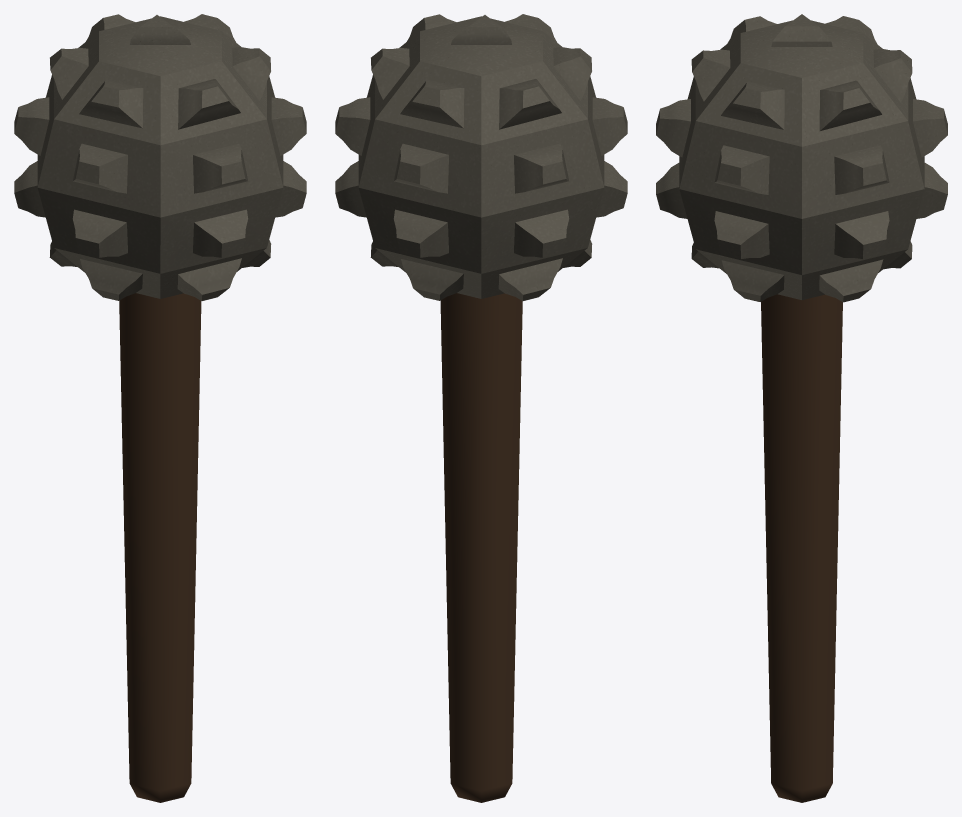
The model's file is Mace_Weapon_001.fbx.
3 views of the same model, side by side, from view 1: azimuth 30°, elevation 25°; view 2: azimuth 150°, elevation 25°; view 3: azimuth 270°, elevation 25° (orthographic).
Parts seen in each view (by area): view 1: FinalProtoMace; view 2: FinalProtoMace; view 3: FinalProtoMace.
Boxes of the visible parts, x1,y1,x2,y2 form: FinalProtoMace: (14, 14, 306, 802); FinalProtoMace: (335, 14, 627, 802); FinalProtoMace: (656, 14, 947, 802).
Bounding box in the file's own units: 38.35 × 116 × 39.54.
